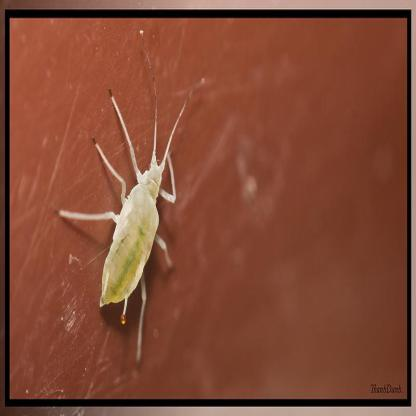aphid: (57, 82, 188, 358)
